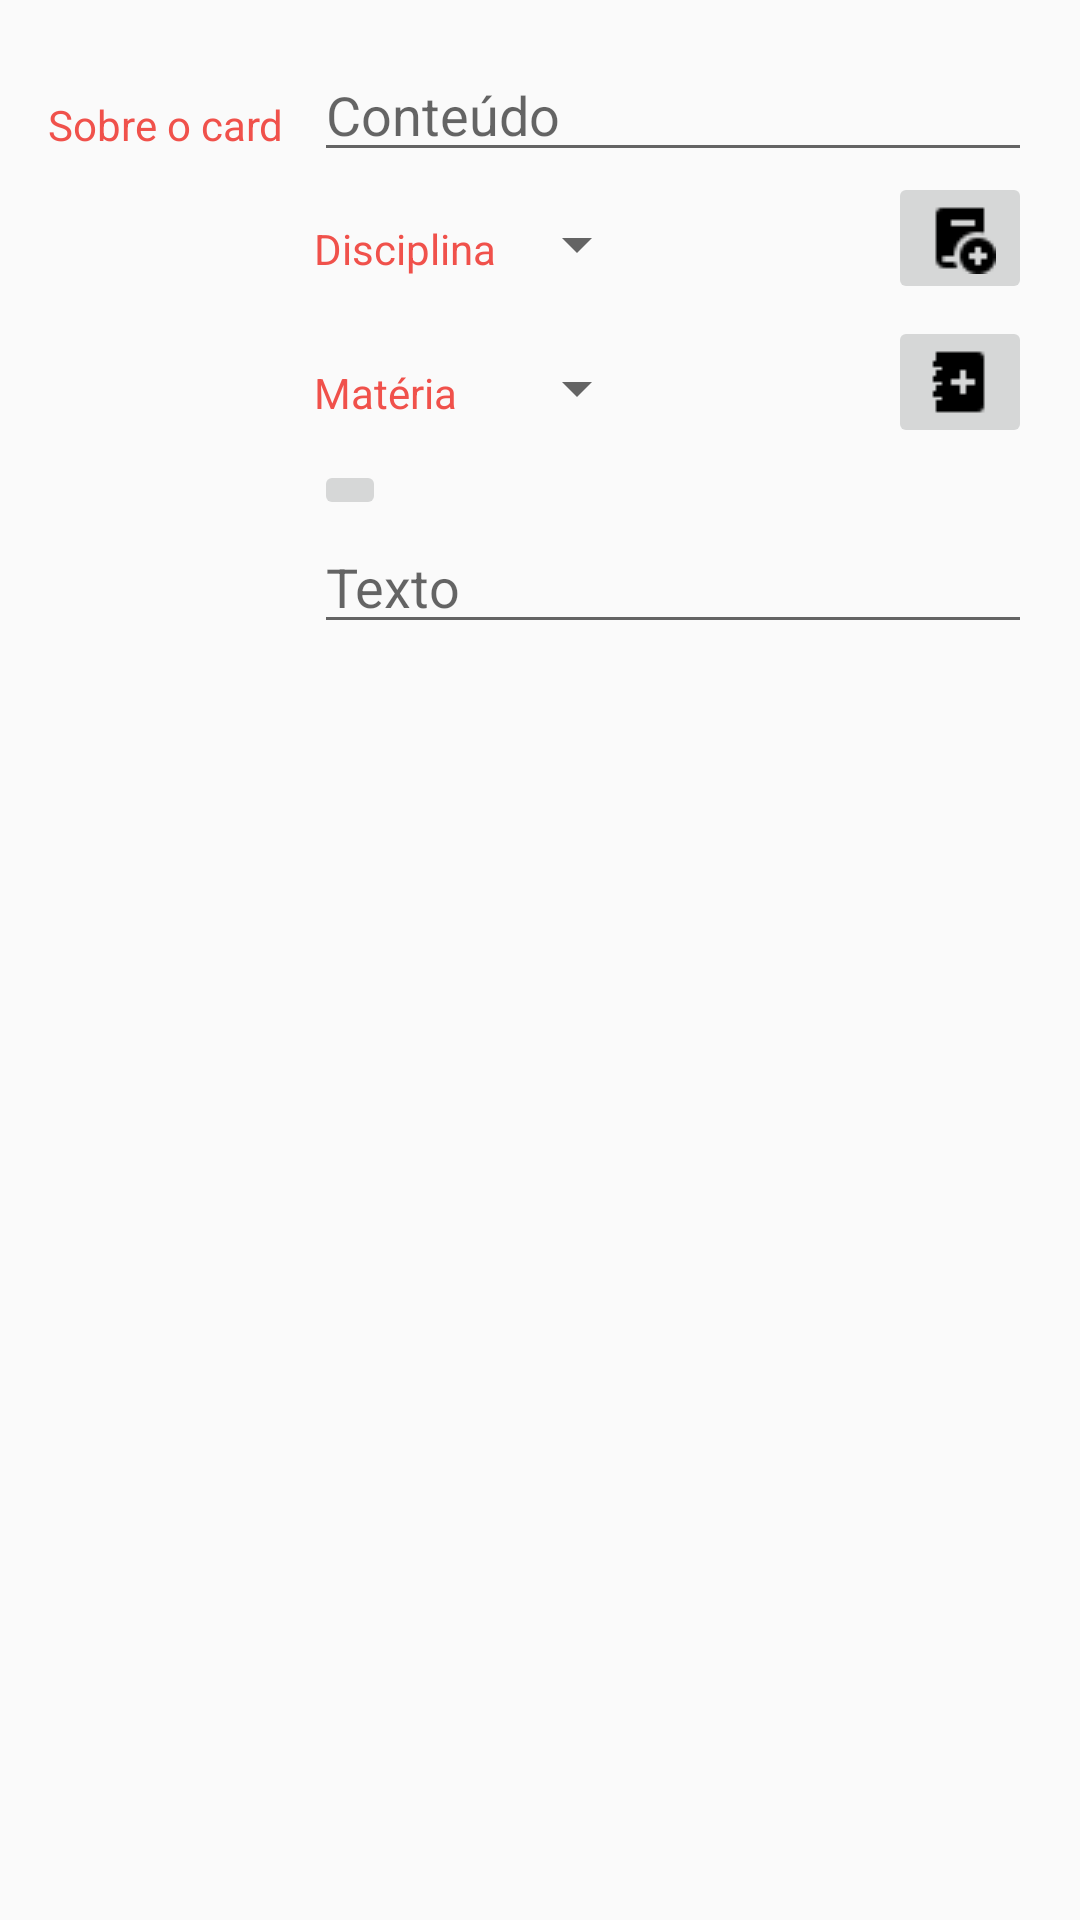

Icons on this 1080×1920 Android screen, each with the point to tap as [x,y]:
add: [960,238], [960,382]
